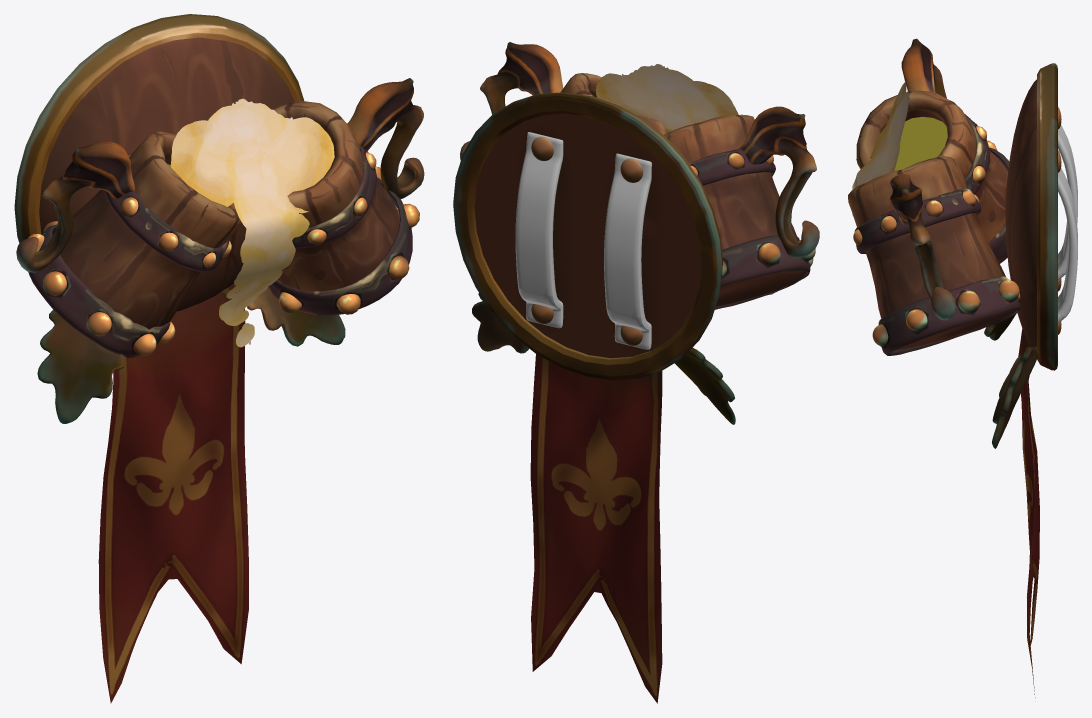
The model's file is stylized_beer_crest.fbx.
The picture shows the model from 3 angles, left to right: view 1: azimuth 30°, elevation 25°; view 2: azimuth 150°, elevation 25°; view 3: azimuth 270°, elevation 25°; orthographic projection. The views are drawn at different scales.
Visible parts, largest first — view 1: node_1d1943b9_c89d_451c_869f_67f748b4576f_mesh0, node_d46711d7_c97d_4635_b913_8667ee3aab06_mesh0, node_93a76e52_bc2a_492e_a20c_7487b9e7654e_mesh0, node_28a78e9c_300e_4efa_abb0_a3987ce53f71_mesh0, node_83185959_0a47_4590_a334_2644c555e2c4_mesh0, node_590e28d9_a9cd_448e_b848_9ac88d36a3cc_mesh0, node_bbfb4156_b463_4f99_87ee_3a6aa4d0775f_mesh0, node_8e4ee391_9e12_4d32_a64a_a67ea77588fa_mesh0, node_7fd089c0_d8e4_42c4_8d01_e4054078c0c6_mesh0, node_1fda6367_42b4_4e2c_b1b6_3c54b4fdd9af_mesh0, node_e4e87306_475f_4a22_b958_8dac3c1163ba_mesh0, node_f6716ba7_75c3_4401_b436_1934e95ba9b1_mesh0 (+5 smaller); view 2: node_1d1943b9_c89d_451c_869f_67f748b4576f_mesh0, node_e42470d9_ba57_4406_941a_29ff0b322411_mesh0, node_590e28d9_a9cd_448e_b848_9ac88d36a3cc_mesh0, node_28a78e9c_300e_4efa_abb0_a3987ce53f71_mesh0, node_f3dc4f86_2dec_429b_a297_27e2cf03bc0c_mesh0, node_0b207810_30bb_42d1_a45b_3512b0ddf9c3_mesh0, node_93a76e52_bc2a_492e_a20c_7487b9e7654e_mesh0, node_8e4ee391_9e12_4d32_a64a_a67ea77588fa_mesh0, node_7fd089c0_d8e4_42c4_8d01_e4054078c0c6_mesh0, node_1fda6367_42b4_4e2c_b1b6_3c54b4fdd9af_mesh0, node_bbfb4156_b463_4f99_87ee_3a6aa4d0775f_mesh0, node_f6716ba7_75c3_4401_b436_1934e95ba9b1_mesh0 (+3 smaller); view 3: node_83185959_0a47_4590_a334_2644c555e2c4_mesh0, node_590e28d9_a9cd_448e_b848_9ac88d36a3cc_mesh0, node_d46711d7_c97d_4635_b913_8667ee3aab06_mesh0, node_28a78e9c_300e_4efa_abb0_a3987ce53f71_mesh0, node_e4e87306_475f_4a22_b958_8dac3c1163ba_mesh0, node_7fd089c0_d8e4_42c4_8d01_e4054078c0c6_mesh0, node_1d1943b9_c89d_451c_869f_67f748b4576f_mesh0, node_801504fa_c404_4c9d_b74f_780c0dcc40bc_mesh0, node_93a76e52_bc2a_492e_a20c_7487b9e7654e_mesh0, node_a3bf7431_aef1_4ad2_9c44_722acfdb6707_mesh0, node_36e7659d_fae8_4813_ae86_ec974f6b721a_mesh0, node_f3dc4f86_2dec_429b_a297_27e2cf03bc0c_mesh0 (+6 smaller).
Part boxes in pixels (bbox=[...]): node_1d1943b9_c89d_451c_869f_67f748b4576f_mesh0: bbox=[98, 283, 248, 703]; node_d46711d7_c97d_4635_b913_8667ee3aab06_mesh0: bbox=[39, 37, 294, 311]; node_93a76e52_bc2a_492e_a20c_7487b9e7654e_mesh0: bbox=[170, 98, 334, 347]; node_28a78e9c_300e_4efa_abb0_a3987ce53f71_mesh0: bbox=[52, 131, 241, 358]; node_83185959_0a47_4590_a334_2644c555e2c4_mesh0: bbox=[272, 100, 399, 291]; node_590e28d9_a9cd_448e_b848_9ac88d36a3cc_mesh0: bbox=[14, 14, 304, 243]; node_bbfb4156_b463_4f99_87ee_3a6aa4d0775f_mesh0: bbox=[37, 310, 124, 423]; node_8e4ee391_9e12_4d32_a64a_a67ea77588fa_mesh0: bbox=[16, 141, 134, 272]; node_7fd089c0_d8e4_42c4_8d01_e4054078c0c6_mesh0: bbox=[347, 78, 424, 199]; node_1fda6367_42b4_4e2c_b1b6_3c54b4fdd9af_mesh0: bbox=[28, 224, 170, 356]; node_e4e87306_475f_4a22_b958_8dac3c1163ba_mesh0: bbox=[268, 177, 412, 315]; node_f6716ba7_75c3_4401_b436_1934e95ba9b1_mesh0: bbox=[105, 156, 229, 271]; node_1d1943b9_c89d_451c_869f_67f748b4576f_mesh0: bbox=[530, 354, 662, 703]; node_e42470d9_ba57_4406_941a_29ff0b322411_mesh0: bbox=[474, 113, 701, 358]; node_590e28d9_a9cd_448e_b848_9ac88d36a3cc_mesh0: bbox=[453, 92, 722, 380]; node_28a78e9c_300e_4efa_abb0_a3987ce53f71_mesh0: bbox=[664, 114, 805, 306]; node_f3dc4f86_2dec_429b_a297_27e2cf03bc0c_mesh0: bbox=[515, 132, 563, 328]; node_0b207810_30bb_42d1_a45b_3512b0ddf9c3_mesh0: bbox=[604, 153, 651, 349]; node_93a76e52_bc2a_492e_a20c_7487b9e7654e_mesh0: bbox=[596, 64, 738, 133]; node_8e4ee391_9e12_4d32_a64a_a67ea77588fa_mesh0: bbox=[739, 106, 819, 258]; node_7fd089c0_d8e4_42c4_8d01_e4054078c0c6_mesh0: bbox=[460, 42, 563, 160]; node_1fda6367_42b4_4e2c_b1b6_3c54b4fdd9af_mesh0: bbox=[715, 235, 810, 309]; node_bbfb4156_b463_4f99_87ee_3a6aa4d0775f_mesh0: bbox=[674, 347, 735, 424]; node_f6716ba7_75c3_4401_b436_1934e95ba9b1_mesh0: bbox=[688, 149, 775, 185]; node_83185959_0a47_4590_a334_2644c555e2c4_mesh0: bbox=[848, 156, 1019, 350]; node_590e28d9_a9cd_448e_b848_9ac88d36a3cc_mesh0: bbox=[1037, 63, 1057, 370]; node_d46711d7_c97d_4635_b913_8667ee3aab06_mesh0: bbox=[1005, 79, 1036, 347]; node_28a78e9c_300e_4efa_abb0_a3987ce53f71_mesh0: bbox=[856, 90, 1008, 242]; node_e4e87306_475f_4a22_b958_8dac3c1163ba_mesh0: bbox=[878, 276, 1020, 355]; node_7fd089c0_d8e4_42c4_8d01_e4054078c0c6_mesh0: bbox=[890, 174, 955, 320]; node_1d1943b9_c89d_451c_869f_67f748b4576f_mesh0: bbox=[1018, 329, 1039, 697]; node_801504fa_c404_4c9d_b74f_780c0dcc40bc_mesh0: bbox=[854, 188, 981, 253]; node_93a76e52_bc2a_492e_a20c_7487b9e7654e_mesh0: bbox=[852, 82, 909, 216]; node_a3bf7431_aef1_4ad2_9c44_722acfdb6707_mesh0: bbox=[894, 116, 947, 170]; node_36e7659d_fae8_4813_ae86_ec974f6b721a_mesh0: bbox=[992, 346, 1038, 448]; node_f3dc4f86_2dec_429b_a297_27e2cf03bc0c_mesh0: bbox=[1058, 168, 1077, 322].
Bounding box in the file's own units: 17.92 × 28.65 × 9.92.
